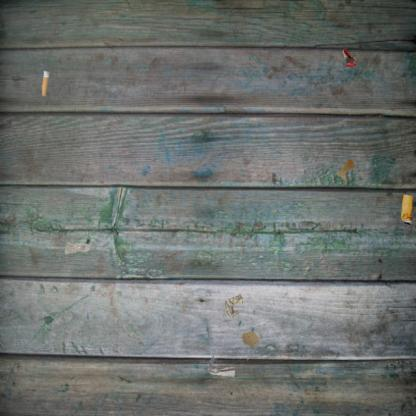dirty: (206, 353, 238, 379), (398, 192, 416, 228), (223, 292, 243, 318), (63, 241, 92, 256), (341, 47, 358, 68), (40, 69, 51, 96)
liquid: (336, 159, 356, 184), (240, 329, 263, 349)
